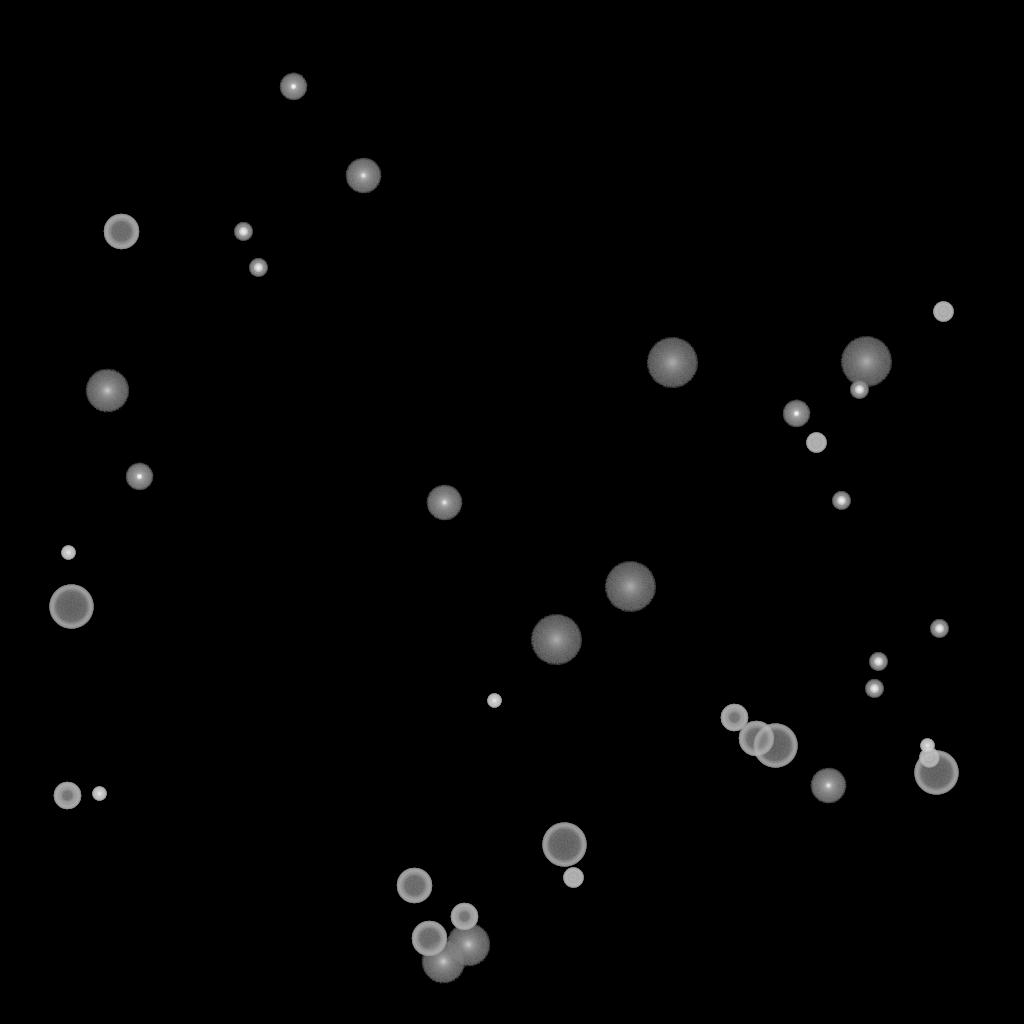depth:-10: (279, 73, 307, 101), (125, 463, 153, 491), (782, 400, 810, 428)
depth:-20: (930, 620, 948, 638), (234, 223, 252, 241), (869, 653, 887, 671), (865, 680, 883, 698), (832, 492, 850, 510), (850, 381, 868, 399), (249, 259, 267, 277)
depth:-30: (92, 787, 106, 801), (487, 694, 501, 708), (920, 739, 934, 753), (61, 546, 75, 560)
depth:-40: (563, 868, 583, 888), (933, 302, 953, 322), (806, 433, 826, 453), (919, 748, 939, 768)
depth:-50: (450, 903, 478, 931), (720, 704, 748, 732), (53, 782, 81, 810)
depth:-60: (103, 214, 139, 250), (396, 868, 432, 904), (411, 921, 447, 957), (738, 721, 774, 757)
depth:-70: (49, 585, 93, 629), (914, 751, 958, 795), (753, 724, 797, 768), (542, 823, 586, 867)
depth:0: (426, 485, 462, 521), (810, 768, 846, 804), (345, 158, 381, 194)
depth:10: (446, 923, 490, 967), (85, 369, 129, 413), (421, 940, 465, 984)
depth:20: (840, 337, 892, 387), (530, 615, 582, 665), (646, 338, 698, 388), (604, 562, 656, 612)
